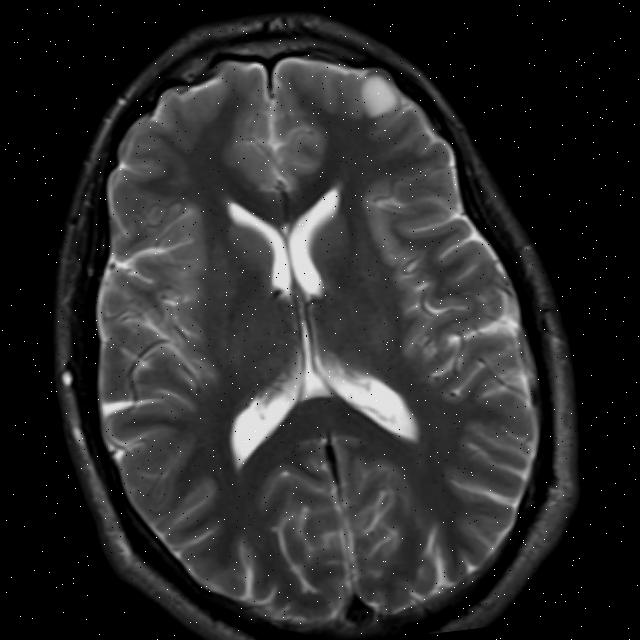NoTumor: (0, 0, 618, 640)
